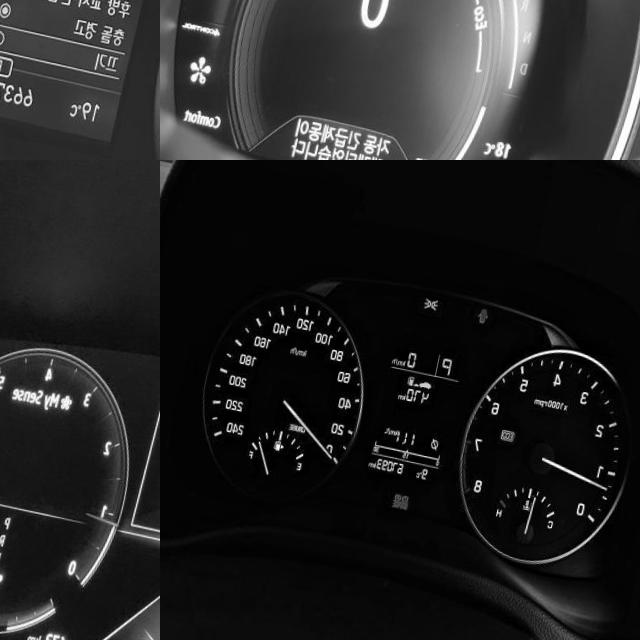Doors: (487, 293, 499, 310)
SideLamp: (433, 284, 449, 299)
